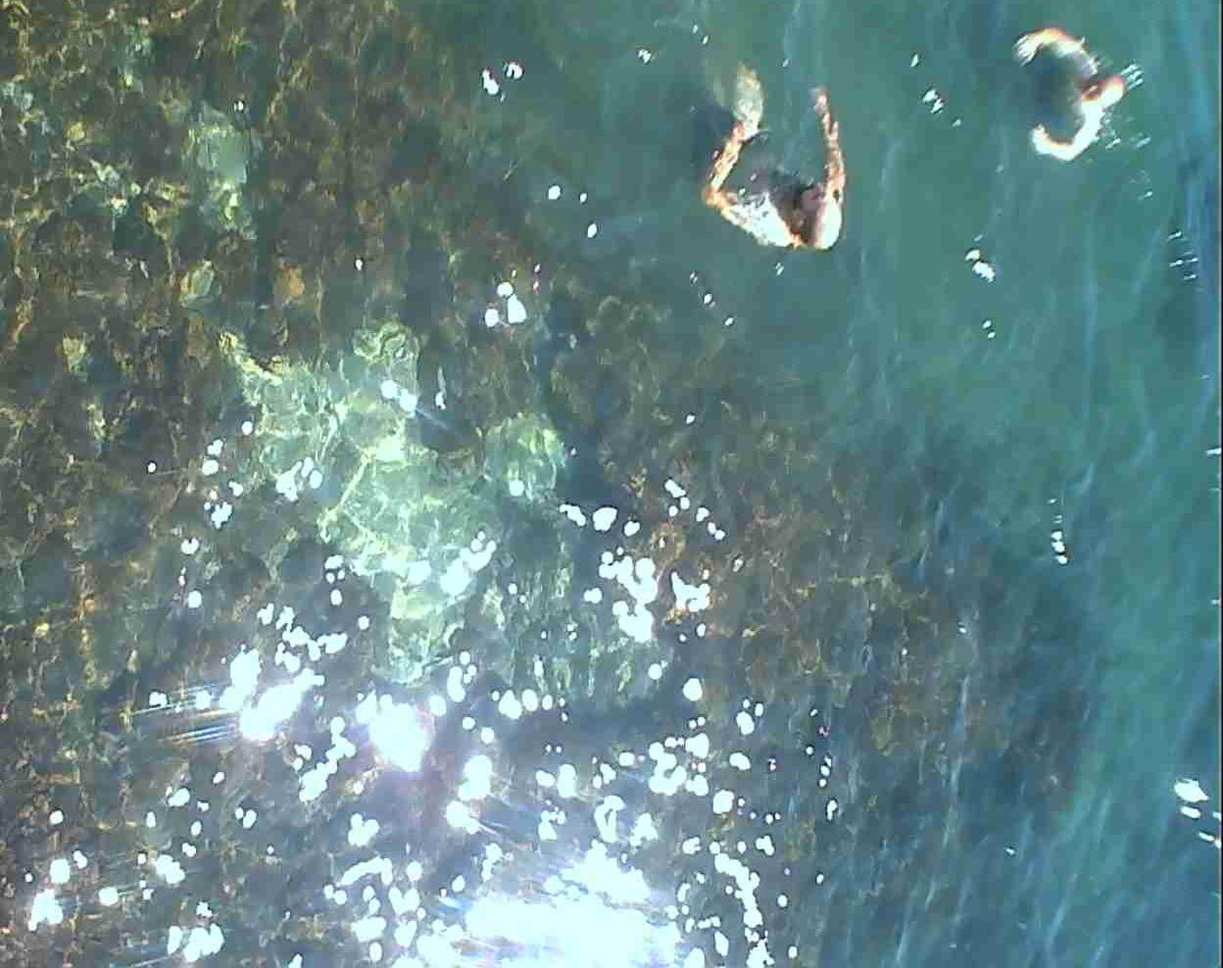human: (701, 61, 840, 268), (1003, 3, 1135, 187)
